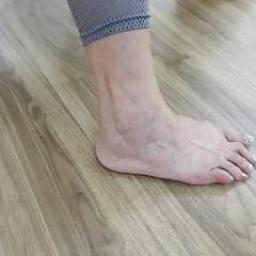Lateral View -Right Foot-: (69, 33, 255, 207)
